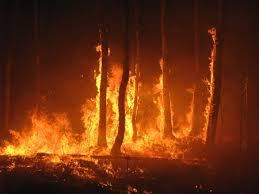fire: (16, 36, 228, 169)
